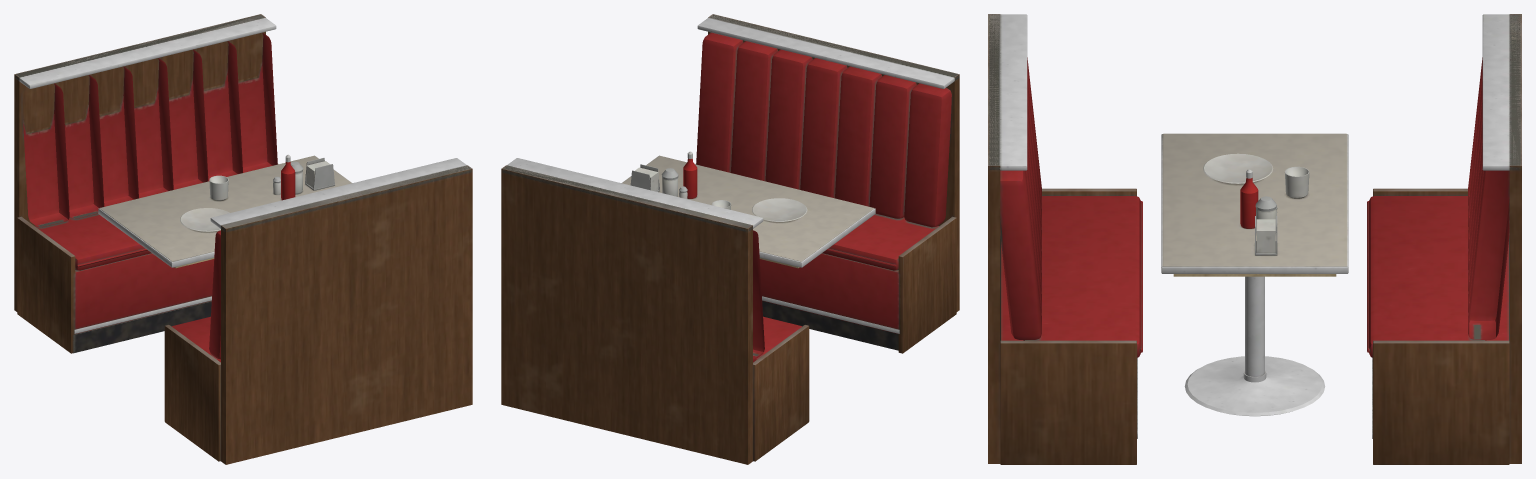
The model's file is mesa_booth.glb.
The picture shows the model from 3 angles, left to right: view 1: azimuth 30°, elevation 25°; view 2: azimuth 150°, elevation 25°; view 3: azimuth 270°, elevation 25°; orthographic projection. The views are drawn at different scales.
Parts seen in each view (by area): view 1: booth; view 2: booth; view 3: booth.
Boxes of the visible parts, x1,y1,x2,y2 form: booth: (14, 14, 472, 464); booth: (501, 14, 959, 464); booth: (988, 14, 1521, 464).
Bounding box in the file's own units: 1.3 × 1.17 × 1.9.
Materials: 1 (1 with a texture image).
